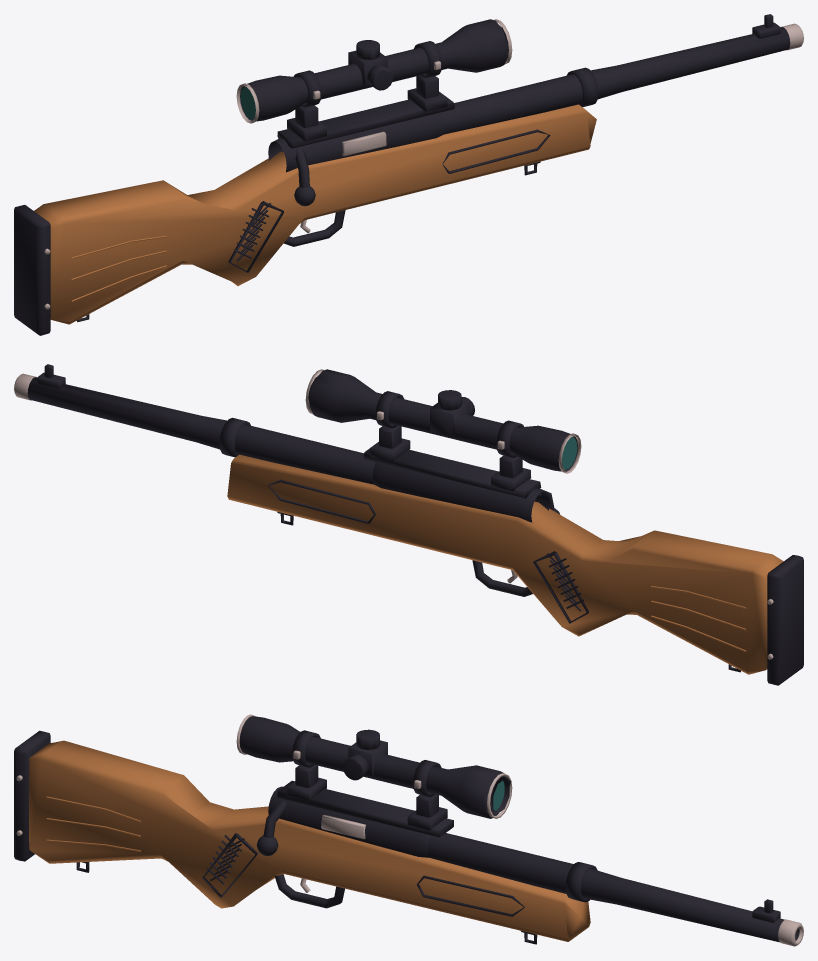
3 views of the same model, one above another, from view 1: azimuth 30°, elevation 25°; view 2: azimuth 150°, elevation 25°; view 3: azimuth 330°, elevation 25° (orthographic).
Bounding box in the file's own units: 1.31 × 0.3351 × 0.114.
